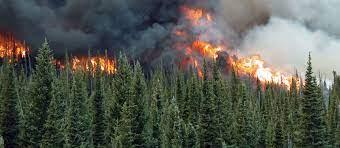fire: (159, 18, 339, 145), (145, 1, 310, 107), (0, 25, 125, 89)
